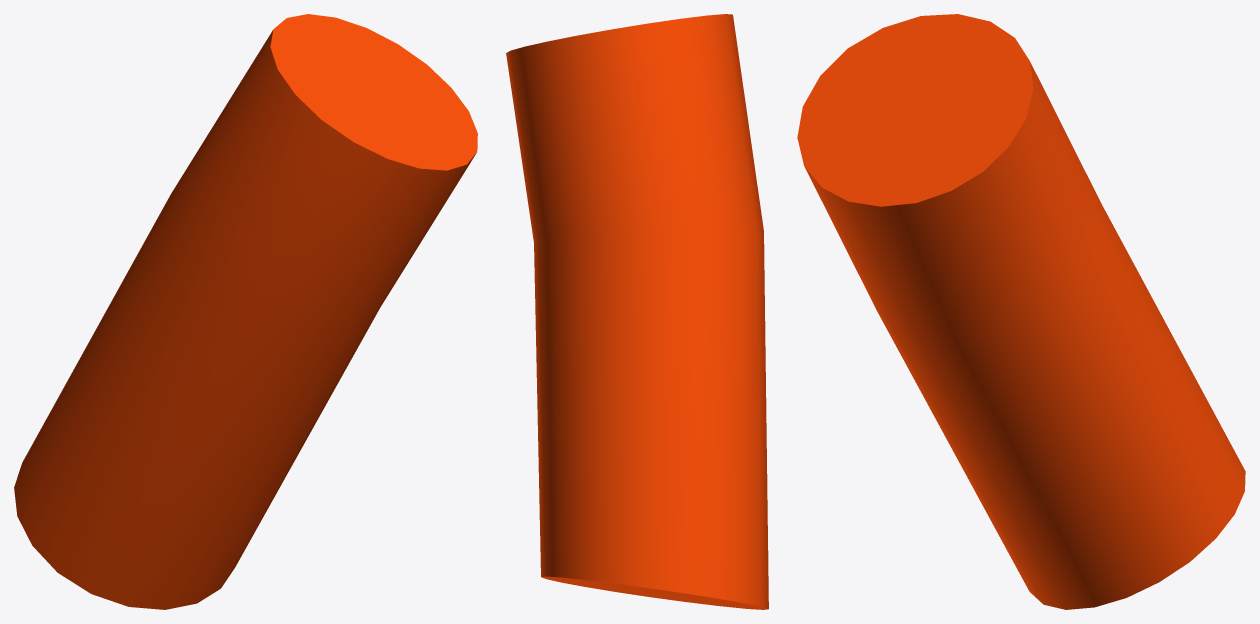
Rendered from lacI.glb.
3 renders of one model, left to right at view 1: azimuth 30°, elevation 25°; view 2: azimuth 150°, elevation 25°; view 3: azimuth 270°, elevation 25°, orthographic. The views are drawn at different scales.
Visible parts, largest first — view 1: lacI; view 2: lacI; view 3: lacI.
Part boxes in pixels (x1,y1,x2,y2): lacI: (14,14,477,609); lacI: (506,14,768,609); lacI: (797,14,1245,609).
Size of the model in its own units: 0.1556 by 0.2512 by 0.1702.
